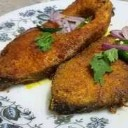seerfish: (1, 1, 111, 82), (57, 32, 128, 110)
